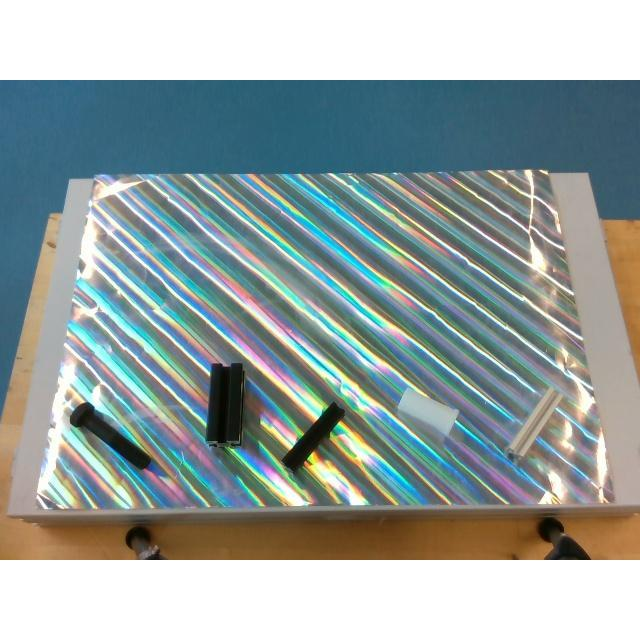F20_20_B: (280, 401, 344, 472)
F20_20_G: (506, 387, 562, 457)
M20_100: (69, 402, 151, 468)
S40_40_B: (204, 363, 243, 445)
Spacer: (398, 387, 458, 437)
